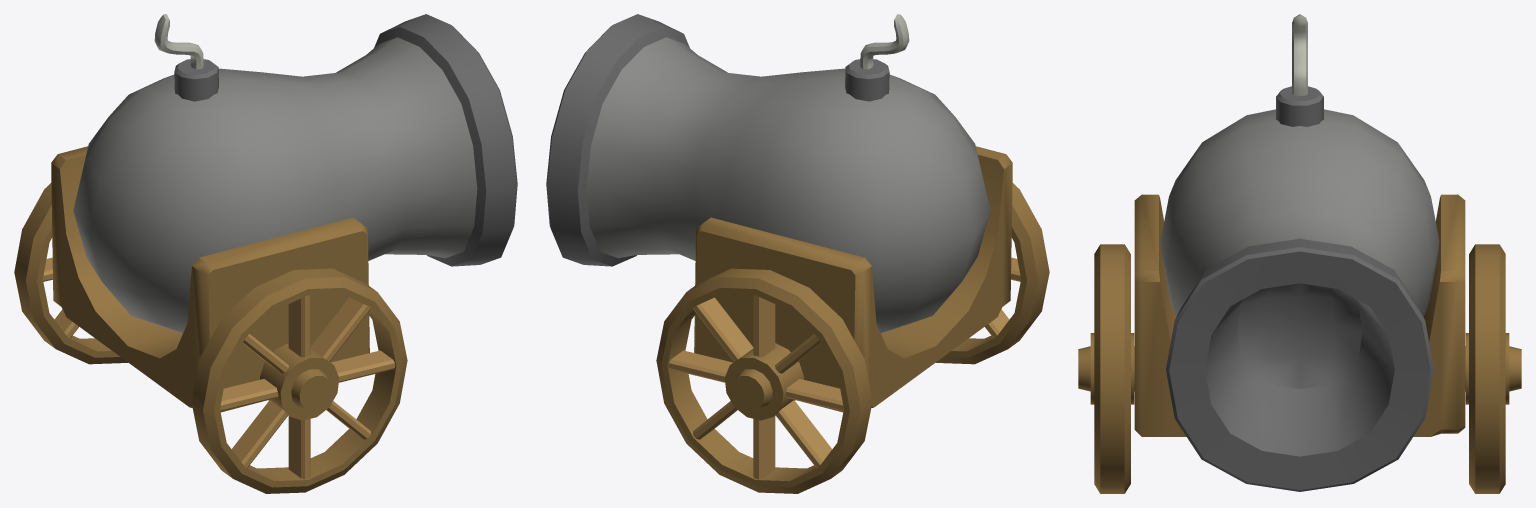
The model's file is quaternius-platformer-game-cannon.glb.
3 views of the same model, side by side, from view 1: azimuth 30°, elevation 25°; view 2: azimuth 150°, elevation 25°; view 3: azimuth 270°, elevation 25° (orthographic). The views are drawn at different scales.
Visible parts, largest first — view 1: Cannon; view 2: Cannon; view 3: Cannon.
Part boxes in pixels (box(x1,y1,x2,y2)): Cannon: box(14, 14, 517, 493); Cannon: box(546, 14, 1049, 493); Cannon: box(1078, 14, 1521, 493).
Bounding box in the file's own units: 3.37 × 3.67 × 3.32.
1 material, 1 textured.
